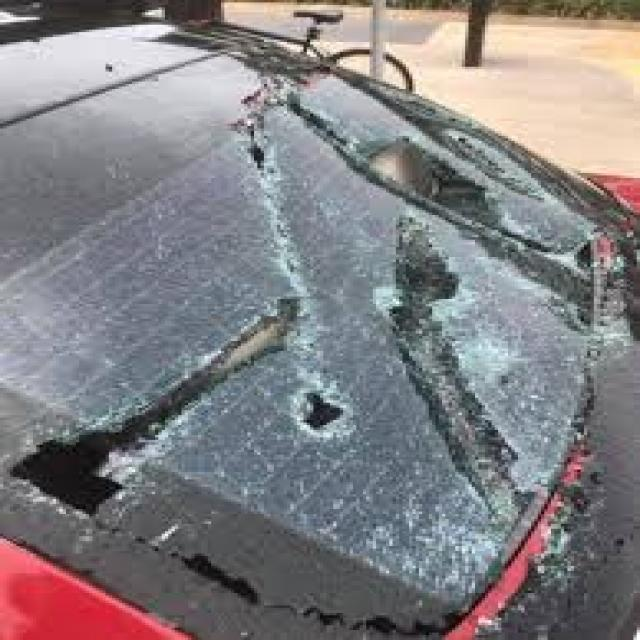damaged-rear-window: (0, 40, 605, 640)
